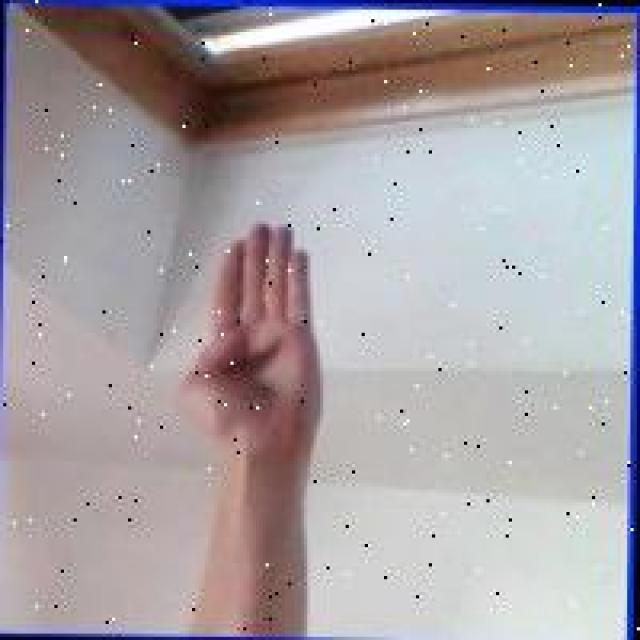B: (178, 216, 324, 475)
